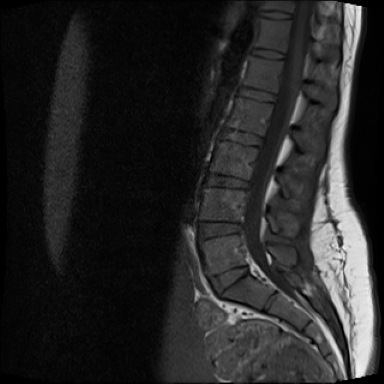Normal IVD: (205, 260, 253, 299), (189, 214, 248, 242), (215, 124, 269, 151), (201, 169, 257, 193), (235, 84, 281, 106), (246, 44, 290, 63), (256, 8, 296, 22)
